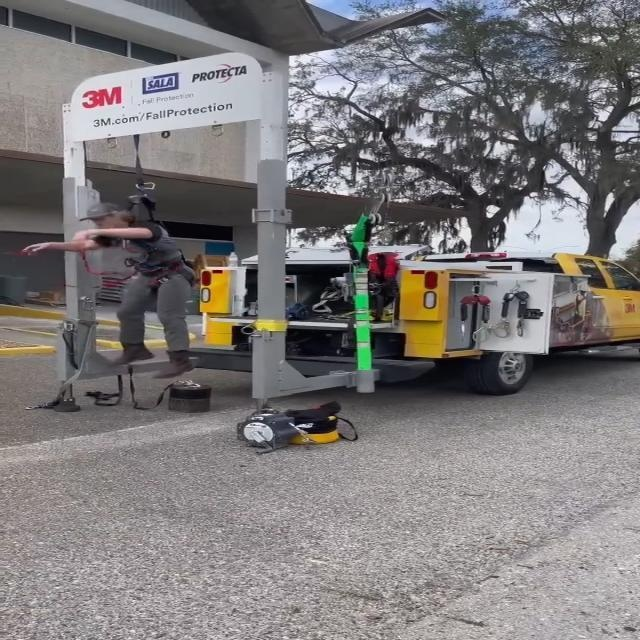Arnes_seguridad: (105, 186, 208, 300)
